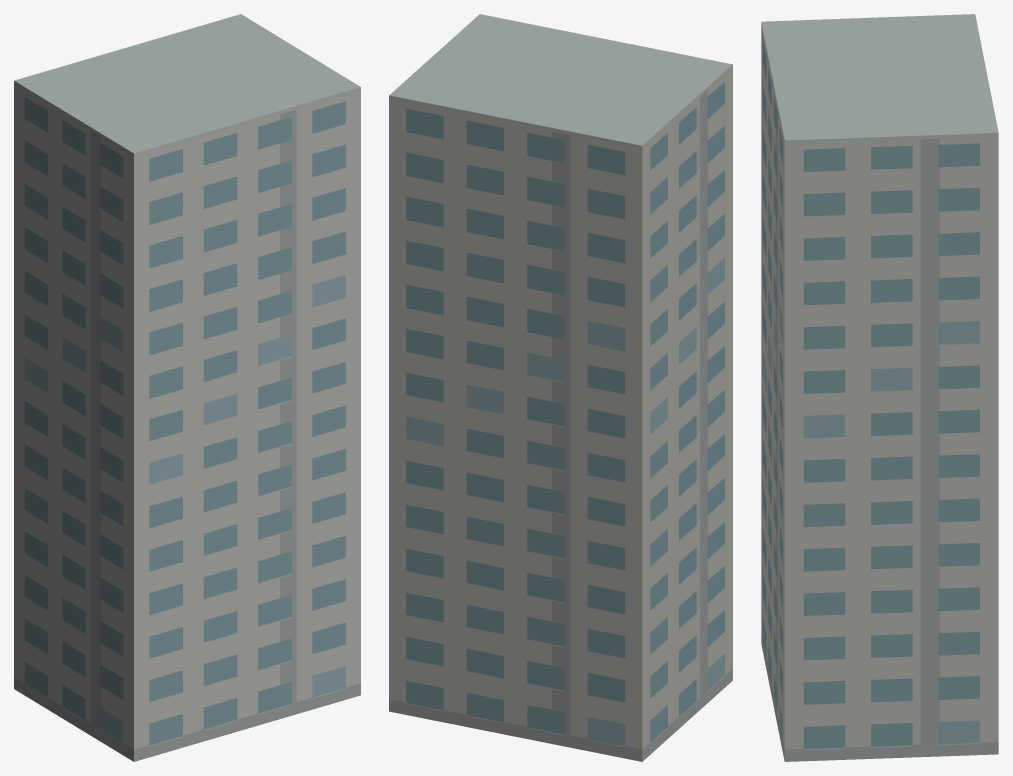
File: residential-537e12dd-c5d9-4ae2-b708-f2a3c23c9aad.glb
3 renders of one model, left to right at view 1: azimuth 30°, elevation 25°; view 2: azimuth 150°, elevation 25°; view 3: azimuth 270°, elevation 25°, orthographic. The views are drawn at different scales.
Visible parts, largest first — view 1: residential-537e12dd-c5d9-4ae2-b708-f2a3c23c9aad.tmp; view 2: residential-537e12dd-c5d9-4ae2-b708-f2a3c23c9aad.tmp; view 3: residential-537e12dd-c5d9-4ae2-b708-f2a3c23c9aad.tmp.
Boxes of the visible parts, x1=… form: residential-537e12dd-c5d9-4ae2-b708-f2a3c23c9aad.tmp: x1=14, y1=14, x2=360, y2=761; residential-537e12dd-c5d9-4ae2-b708-f2a3c23c9aad.tmp: x1=389, y1=14, x2=732, y2=761; residential-537e12dd-c5d9-4ae2-b708-f2a3c23c9aad.tmp: x1=761, y1=14, x2=998, y2=761.
Size of the model in its own units: 17.46 by 40 by 13.86.
